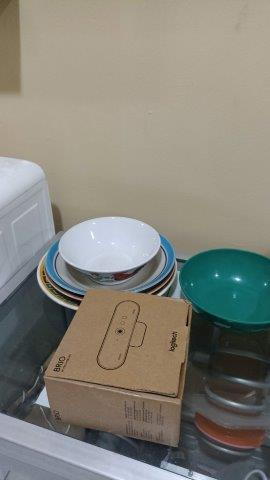kardus: (46, 289, 191, 446)
